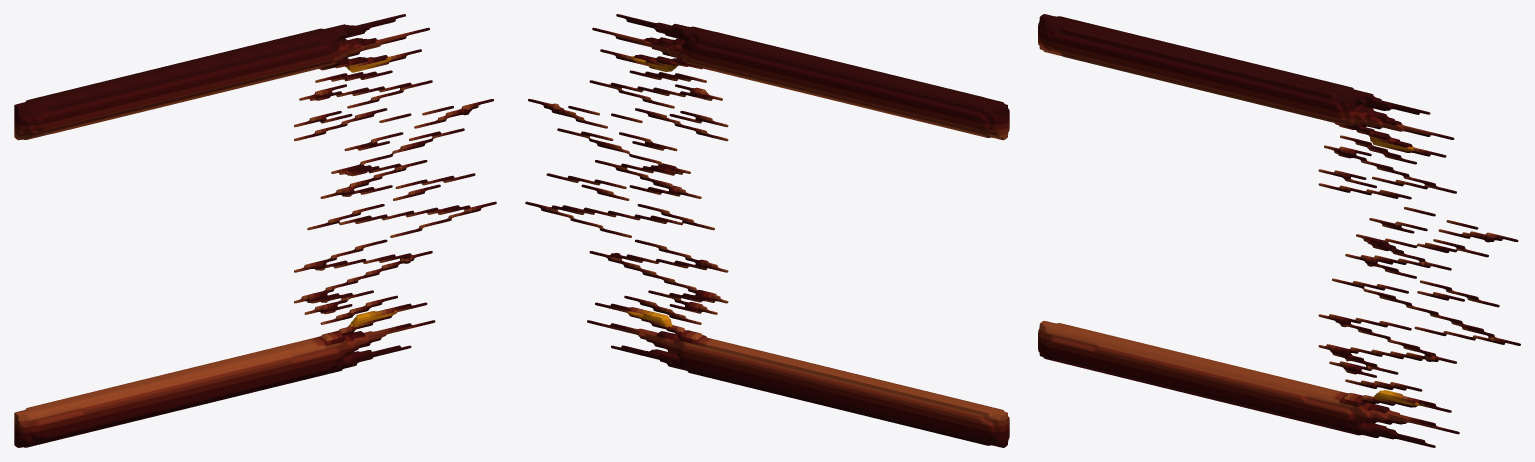
File: Fight_101_3_13.obj
3 views of the same model, side by side, from view 1: azimuth 30°, elevation 25°; view 2: azimuth 150°, elevation 25°; view 3: azimuth 330°, elevation 25° (orthographic).
Bounding box in the file's own units: 17.98 × 12.2 × 1.
Materials: 1 (1 with a texture image).
